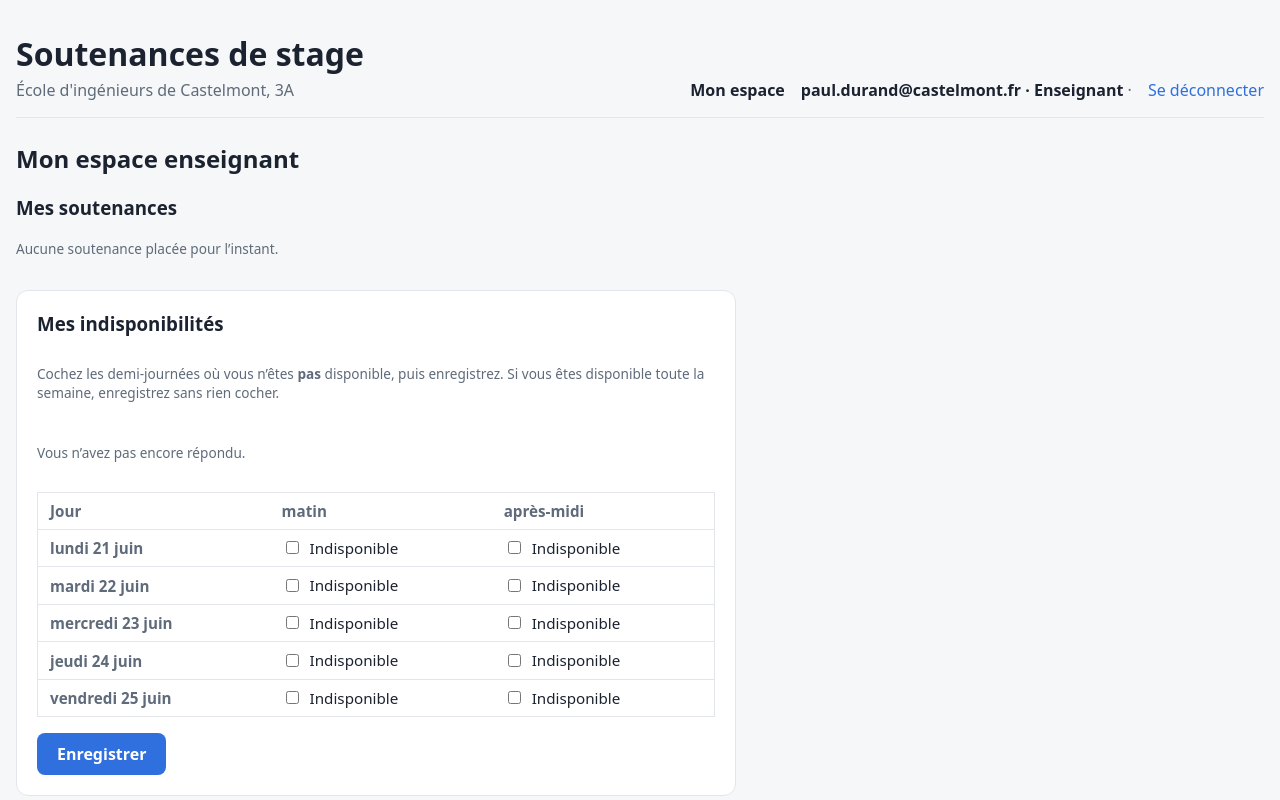
Scenario: AvailabilityForm (the teacher) › warns about a defense already placed in a half-day they tick
The image size is (1280, 800).
What coordinates should you click on to do the following:
click the checkbox named "Indisponible lundi 21 juin matin"
I would click on:
 (292, 548)
Its box is x1=286 y1=541 x2=299 y2=554.
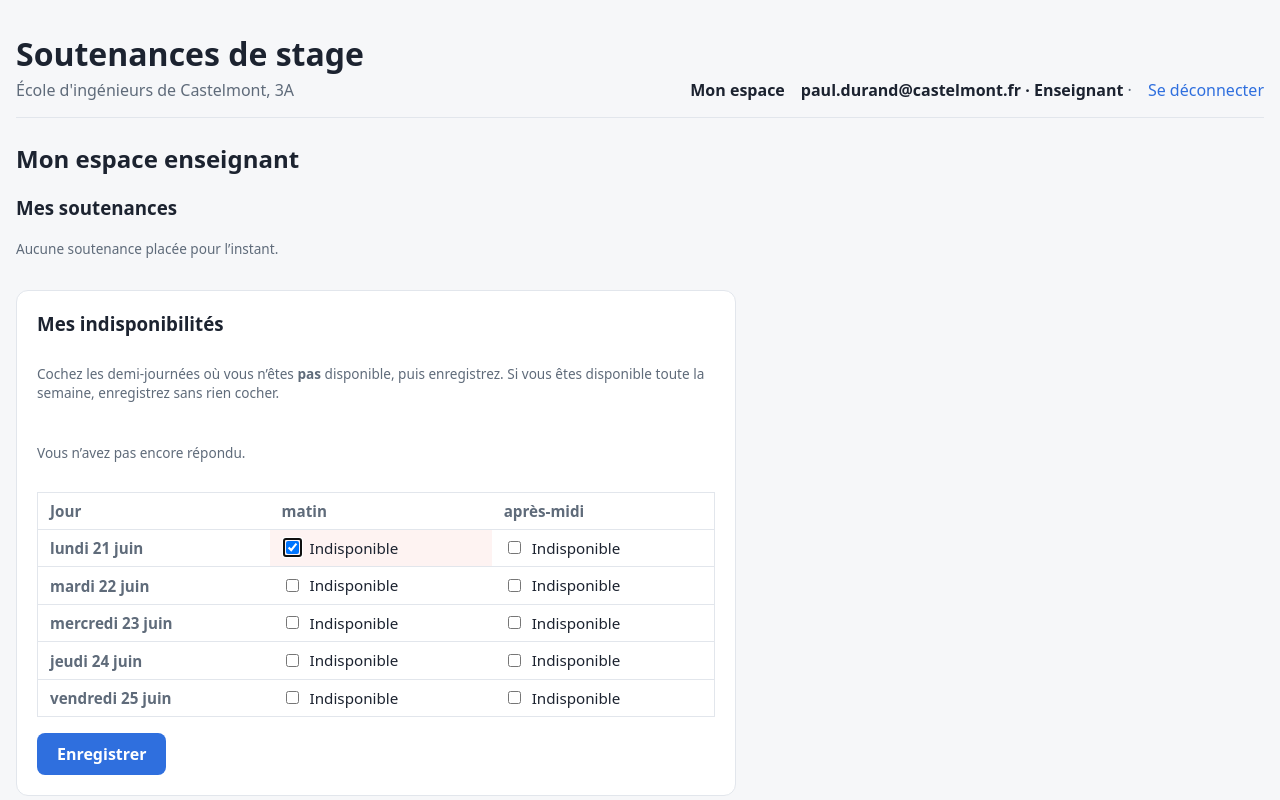
What coordinates should you click on to do the following:
click the button "Enregistrer"
I would click on:
 (102, 754)
Its box is x1=37 y1=733 x2=166 y2=775.
(page scrolled)
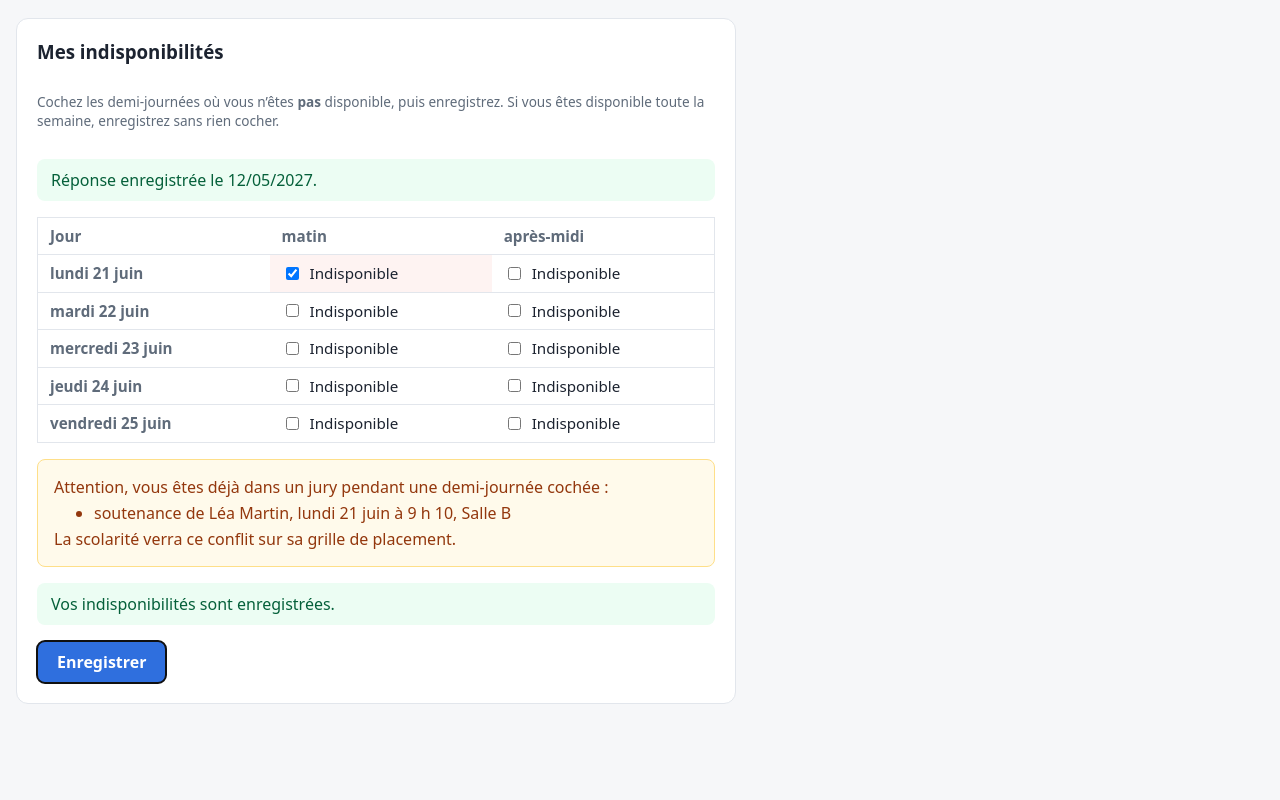
Now the 2nd message shows "soutenance de Léa Martin, lundi 21 juin à 9 h 10, Salle B", box x1=37 y1=459 x2=715 y2=567
